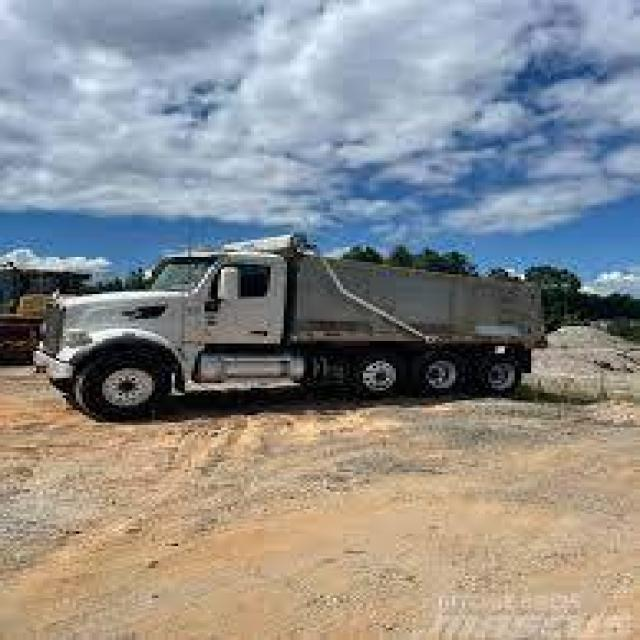dump_truck: (33, 237, 556, 421)
